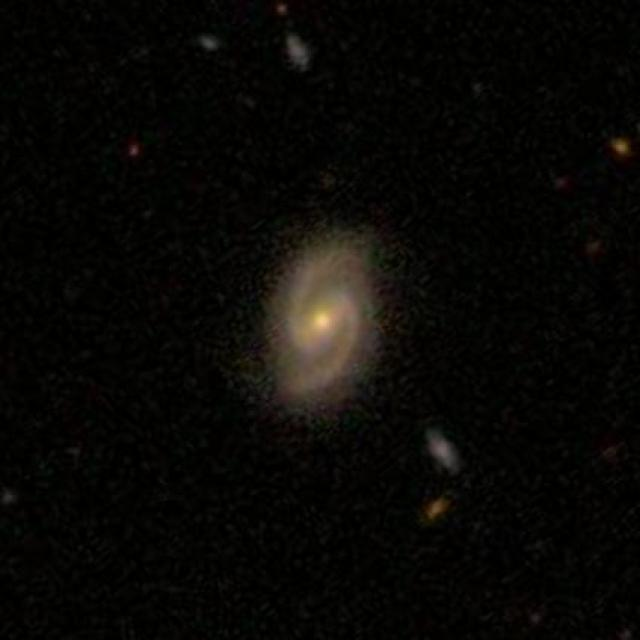galaxy: (247, 213, 402, 441), (421, 420, 462, 478), (420, 489, 454, 530), (283, 32, 315, 71), (195, 30, 225, 59), (609, 134, 633, 159), (129, 139, 145, 164), (274, 3, 290, 15)
